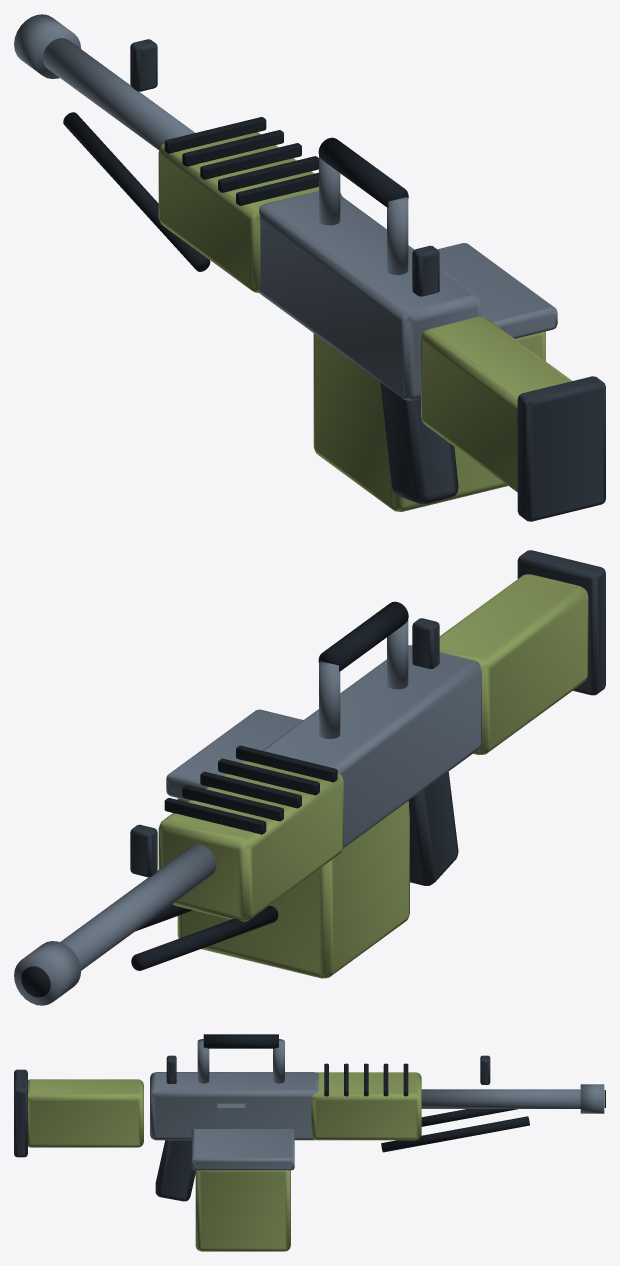
File: lmg.glb
3 views of the same model, one above another, from view 1: azimuth 30°, elevation 25°; view 2: azimuth 150°, elevation 25°; view 3: azimuth 270°, elevation 25° (orthographic). The views are drawn at different scales.
Visible parts, largest first — view 1: heavy receiver, stock, butt pad, handguard ribs, stock.002; view 2: heavy receiver, stock, stock.002, handguard ribs, butt pad; view 3: heavy receiver, stock, stock.002, handguard ribs, butt pad, animated charging handle.
Boxes of the visible parts, left/top/right/bottom form: heavy receiver: left=14, top=14, right=557, bottom=400; stock: left=158, top=132, right=571, bottom=492; butt pad: left=130, top=39, right=605, bottom=521; handguard ribs: left=63, top=112, right=408, bottom=271; stock.002: left=313, top=331, right=545, bottom=511; heavy receiver: left=14, top=620, right=481, bottom=1005; stock: left=158, top=574, right=588, bottom=921; stock.002: left=177, top=798, right=409, bottom=978; handguard ribs: left=21, top=601, right=408, bottom=997; butt pad: left=130, top=550, right=605, bottom=885; heavy receiver: left=150, top=1039, right=604, bottom=1170; stock: left=28, top=1072, right=421, bottom=1147; stock.002: left=195, top=1170, right=290, bottom=1251; handguard ribs: left=203, top=1034, right=605, bottom=1152; butt pad: left=14, top=1055, right=490, bottom=1201; animated charging handle: left=217, top=1103, right=245, bottom=1116.
Size of the model in its own units: 0.325 by 0.498 by 1.49.
